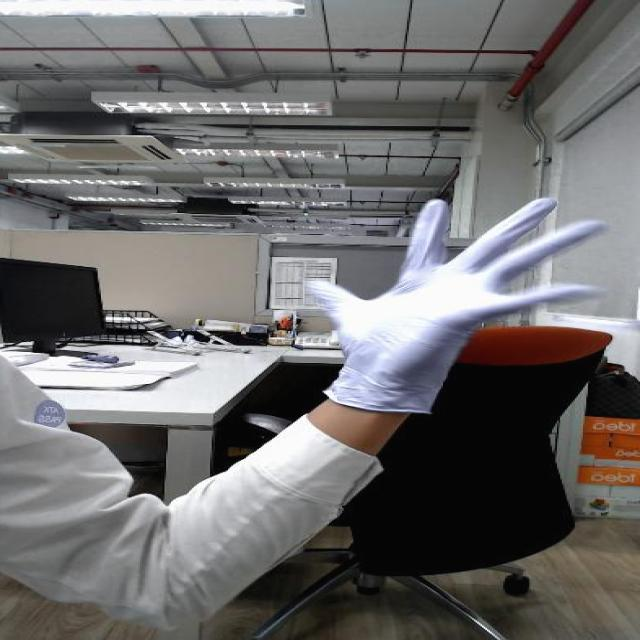glove: (293, 190, 616, 374)
